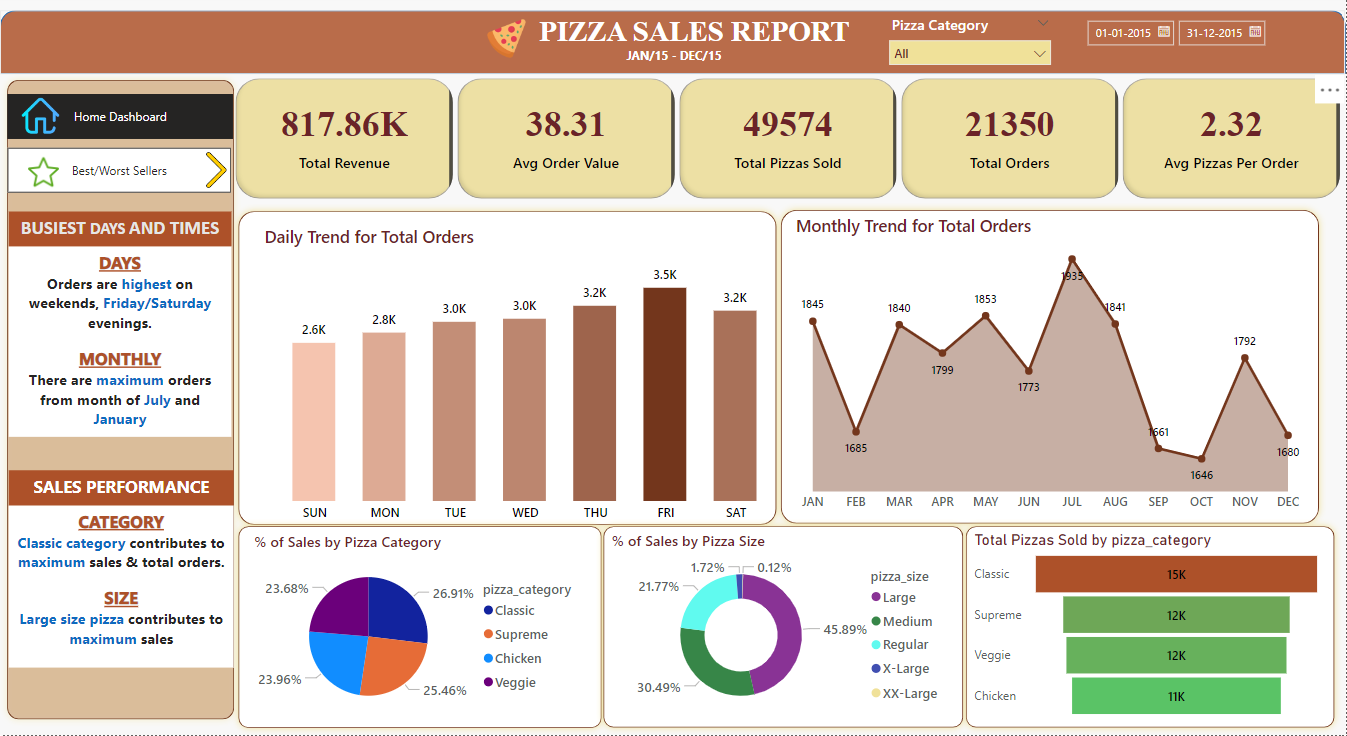

What the dashboard file says about the page in this screenshot:
{"tool":"powerbi","page":{"name":"Home Dashboard","canvas":[1500,820],"ordinal":0},"visuals":[{"type":"cardVisual","fields":{"Data":["pizza_sales.Total Revenue","pizza_sales.Avg Order Value","pizza_sales.Total Pizzas Sold","pizza_sales.Total Orders","pizza_sales.Avg Pizzas Per Order"]},"box":[257.6,83.5,1241.8,144.8],"z":0},{"type":"shape","box":[0,12.5,1500,70.8],"z":1000},{"type":"textbox","box":[504,12,538.7,60],"z":2000},{"type":"textbox","box":[677.3,49.3,145.3,33.3],"z":3000},{"type":"image","box":[519.4,16.1,90.1,54.7],"z":4000},{"type":"shape","box":[256.9,227.8,615.3,365.3],"z":5000},{"type":"columnChart","title":"Daily Trend for Total Orders","fields":{"Category":["pizza_sales.Order Day"],"Y":["pizza_sales.Total Orders"]},"box":[289.5,252.5,591.8,339.3],"z":6000},{"type":"shape","box":[861.1,226.4,615.3,365.3],"z":7000},{"type":"areaChart","title":"Monthly Trend for Total Orders","fields":{"Y":["pizza_sales.Total Orders"],"Category":["pizza_sales.Order Month"]},"box":[881.9,238.9,577.8,340.3],"z":8000},{"type":"shape","box":[257.6,579.2,420.4,240.8],"z":9000},{"type":"shape","box":[1068.1,579.2,426.4,240.3],"z":10000},{"type":"shape","box":[663.9,579.2,416.7,240.3],"z":11000},{"type":"pieChart","title":"% of Sales by Pizza Category","fields":{"Category":["pizza_sales.pizza_category"],"Y":["pizza_sales.Total Revenue"]},"box":[277.8,593.1,386.1,212.5],"z":12000},{"type":"donutChart","title":"% of Sales by Pizza Size","fields":{"Y":["pizza_sales.Total Revenue"],"Category":["pizza_sales.pizza_size"]},"box":[677,591.8,385.9,212.3],"z":13000},{"type":"funnel","fields":{"Y":["pizza_sales.Total Pizzas Sold"],"Category":["pizza_sales.pizza_category"]},"box":[1080.3,591.7,396.8,214.4],"z":14000},{"type":"shape","box":[0,82.1,268.7,728.1],"z":15000},{"type":"textbox","box":[9.7,236.7,247.8,39],"z":16000},{"type":"textbox","box":[9.7,275.7,247.8,211.6],"z":17000},{"type":"textbox","box":[9.7,563.8,250.6,181],"z":18000},{"type":"textbox","box":[9.7,524.9,250.6,39],"z":19000},{"type":"slicer","fields":{"Values":["pizza_sales.pizza_category"]},"box":[980.1,12.5,200.5,69.6],"z":20000},{"type":"slicer","fields":{"Values":["pizza_sales.order_date"]},"box":[1198,14.5,220.3,61.1],"z":20001},{"type":"pageNavigator","box":[8.4,105.8,252,50.1],"z":20002},{"type":"pageNavigator","box":[8.4,165.7,249.2,50.1],"z":20003},{"type":"image","box":[26.5,169.8,44.6,45.9],"z":20004},{"type":"image","box":[213,165.7,55.7,50.1],"z":20005},{"type":"image","box":[19.5,98.8,51.5,62.6],"z":20006}]}

Visuals, with their boxes in screenshot pixels (x1, y1, x2, y2), scaled from the page's 1500x820 canvas onto the 1347x736 screenshot:
cardVisual - pizza_sales.Total Revenue x pizza_sales.Avg Order Value: 231, 75, 1346, 205
shape: 0, 11, 1346, 75
textbox: 453, 11, 936, 65
textbox: 608, 44, 739, 74
image: 466, 14, 547, 64
shape: 231, 204, 783, 532
"Daily Trend for Total Orders" columnChart: 260, 227, 791, 531
shape: 773, 203, 1326, 531
"Monthly Trend for Total Orders" areaChart: 792, 214, 1311, 520
shape: 231, 520, 609, 735
shape: 959, 520, 1342, 735
shape: 596, 520, 970, 735
"% of Sales by Pizza Category" pieChart: 249, 532, 596, 723
"% of Sales by Pizza Size" donutChart: 608, 531, 954, 722
funnel - pizza_sales.Total Pizzas Sold x pizza_sales.pizza_category: 970, 531, 1326, 724
shape: 0, 74, 241, 727
textbox: 9, 212, 231, 247
textbox: 9, 247, 231, 437
textbox: 9, 506, 234, 669
textbox: 9, 471, 234, 506
slicer - pizza_sales.pizza_category: 880, 11, 1060, 74
slicer - pizza_sales.order_date: 1076, 13, 1274, 68
pageNavigator: 8, 95, 234, 140
pageNavigator: 8, 149, 231, 194
image: 24, 152, 64, 194
image: 191, 149, 241, 194
image: 18, 89, 64, 145
